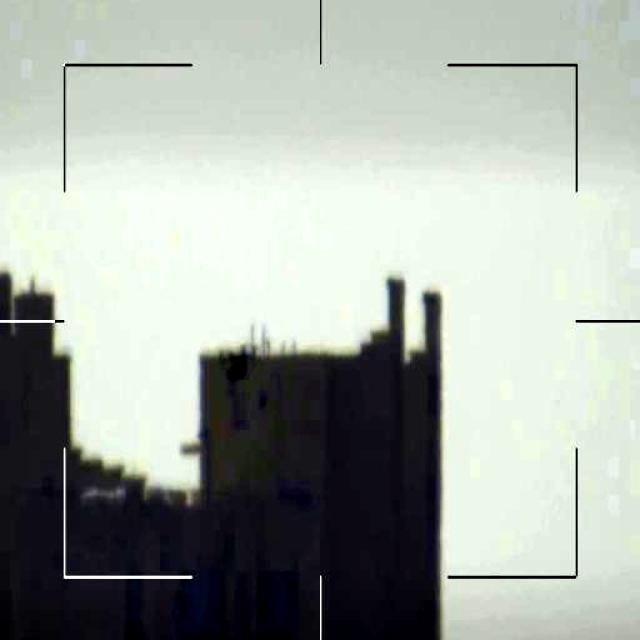bird: (212, 335, 264, 405)
